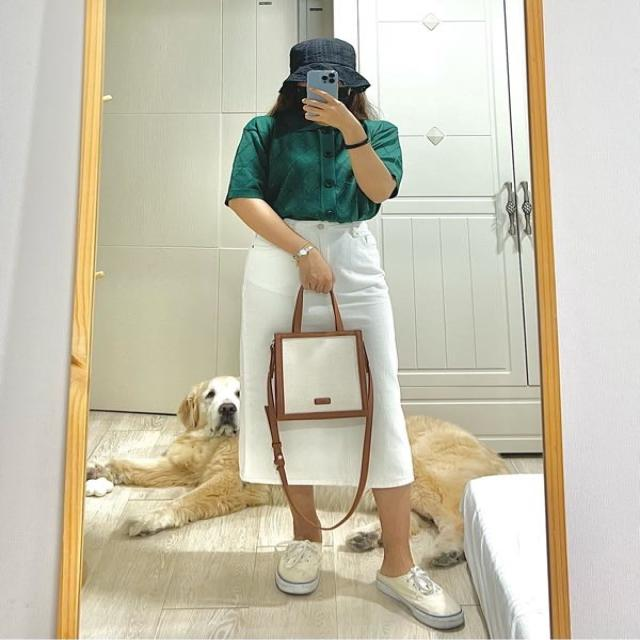cardigan: (226, 114, 402, 223)
skirt: (237, 216, 416, 487)
